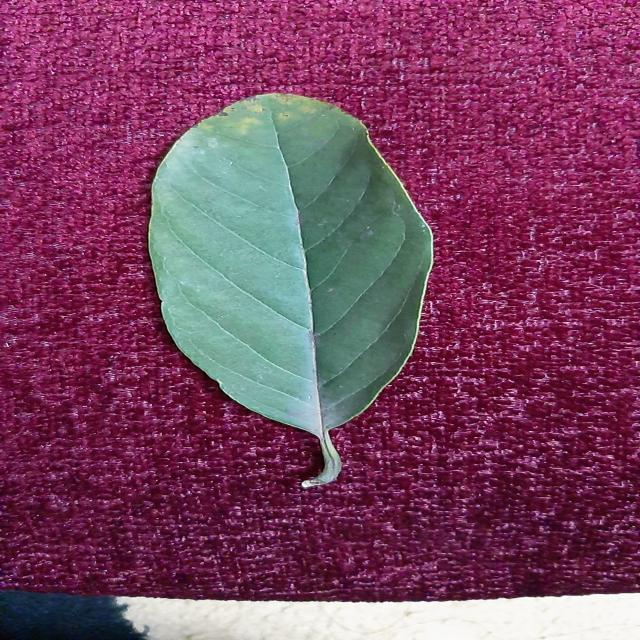seethaphala: (149, 94, 431, 444)
